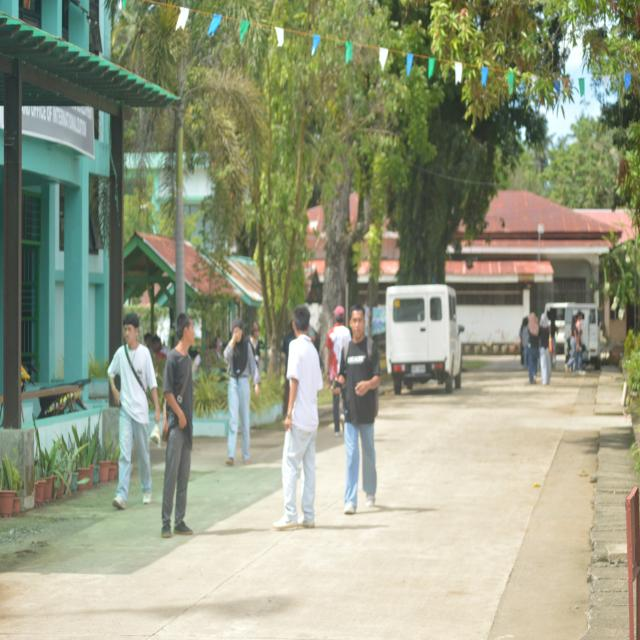person: (274, 305, 323, 529), (108, 313, 160, 509), (338, 304, 381, 514), (162, 313, 194, 537), (224, 319, 260, 465), (326, 306, 351, 389), (539, 313, 552, 385), (527, 312, 539, 384)
